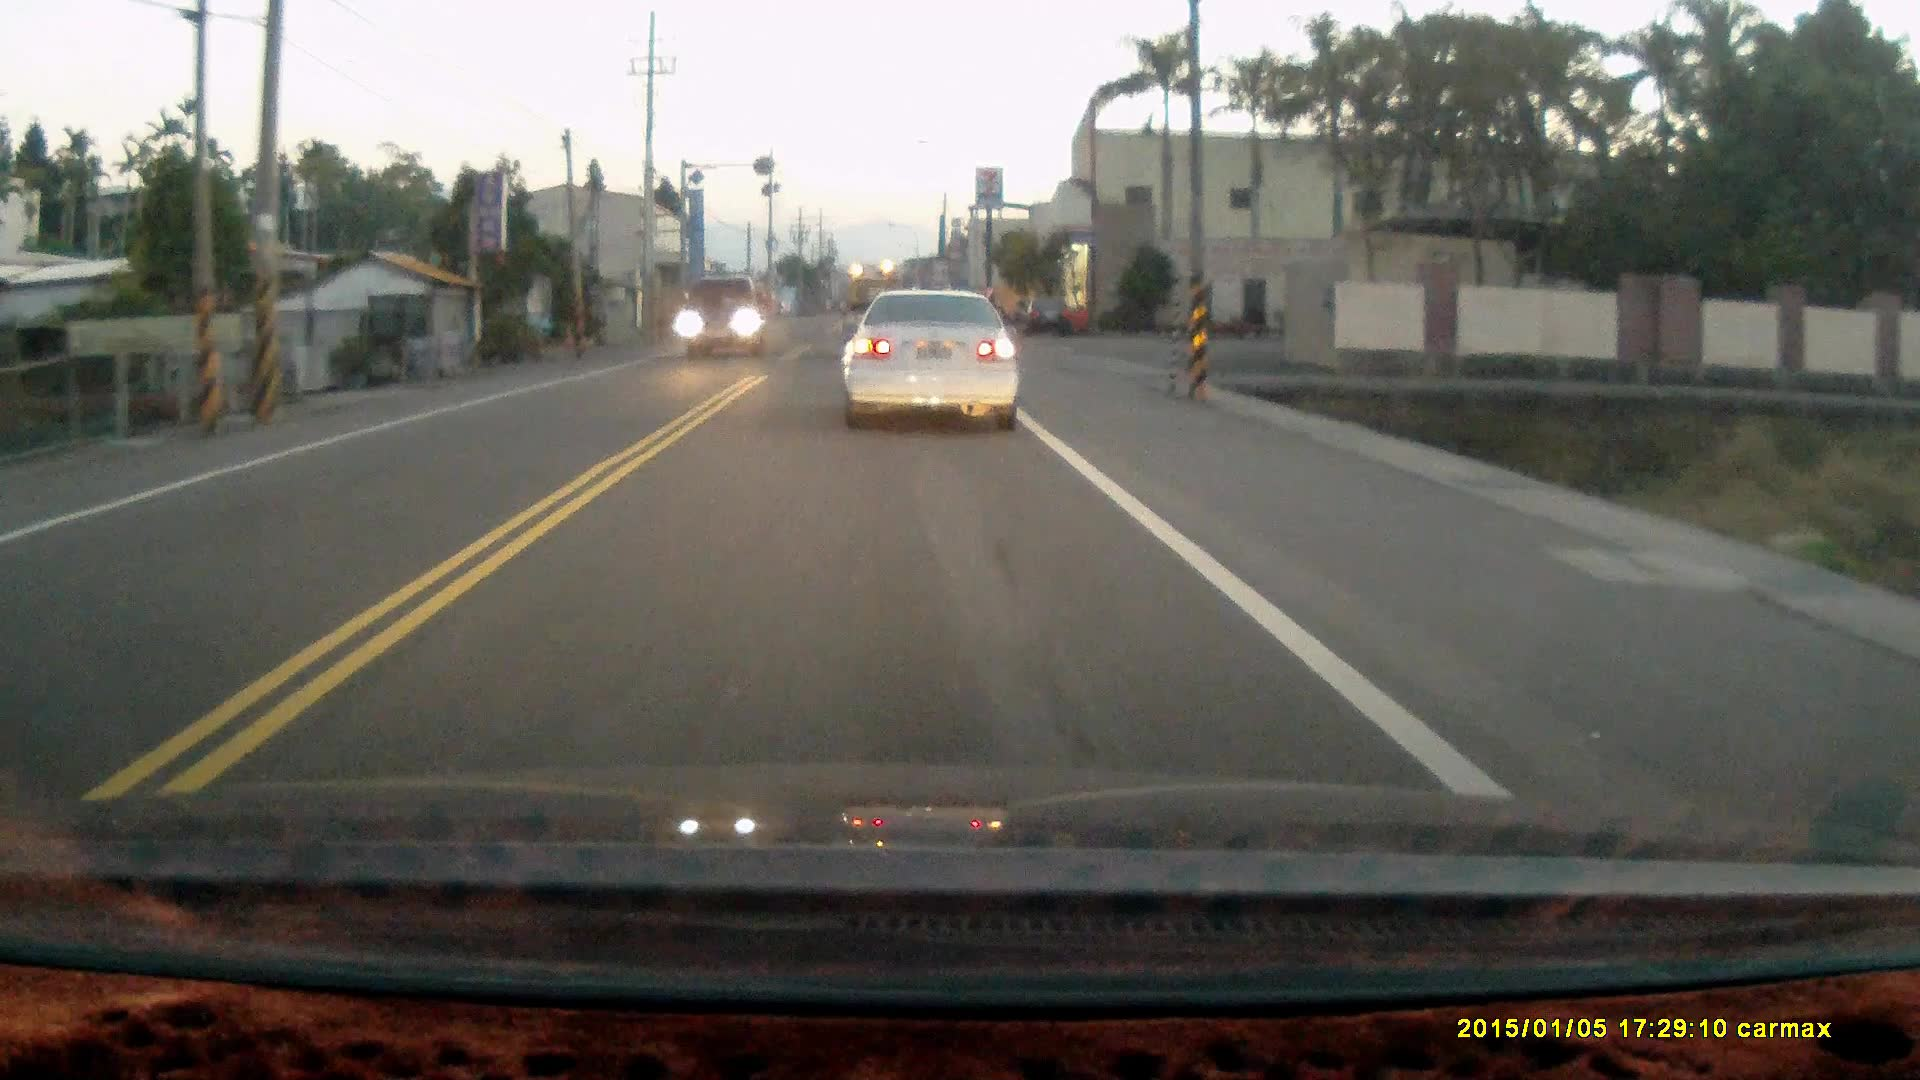vehicle: (845, 287, 1021, 429), (676, 277, 771, 361), (1019, 293, 1073, 339)
